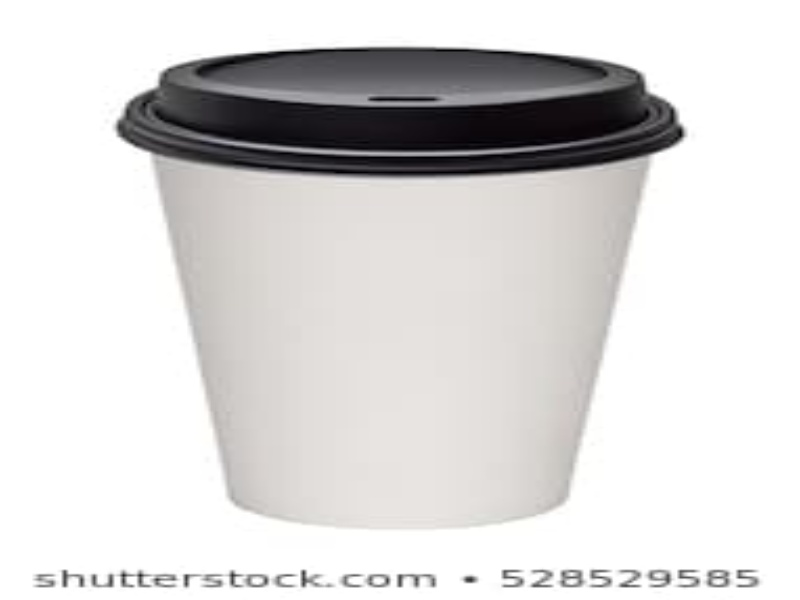coffee-lid: (115, 48, 688, 179)
plastic-cup: (112, 44, 687, 532)
